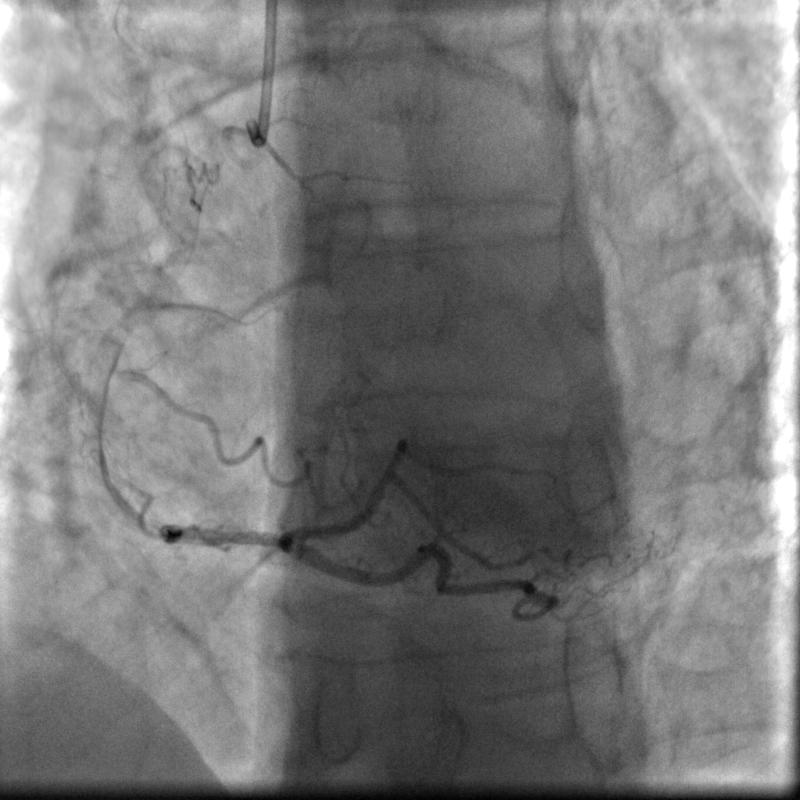Stenosis: (206, 513, 280, 561)
